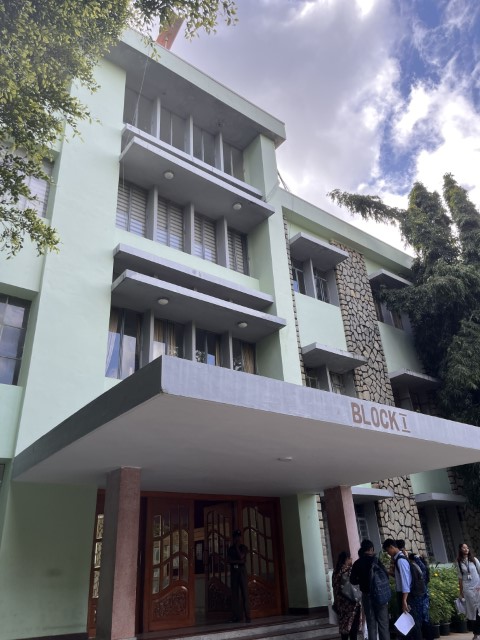Block 1: (90, 34, 480, 537)
